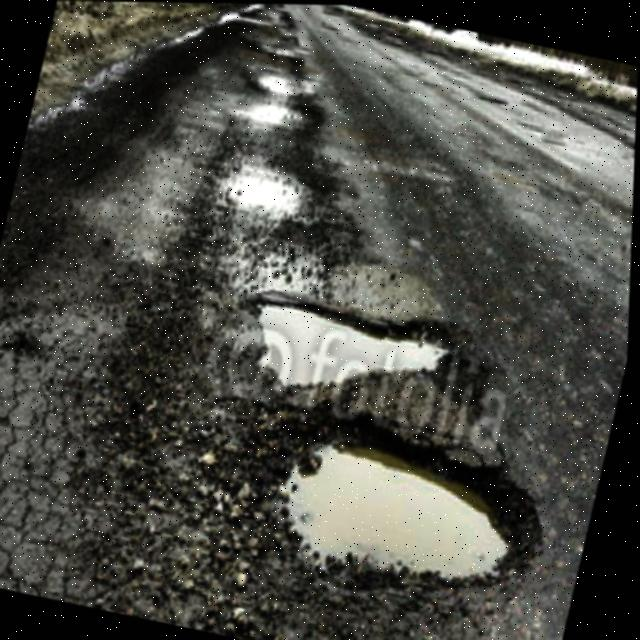Pothole: (90, 1, 454, 640), (254, 405, 607, 629), (231, 283, 518, 406), (202, 139, 337, 246), (226, 92, 306, 129), (242, 48, 322, 85)
